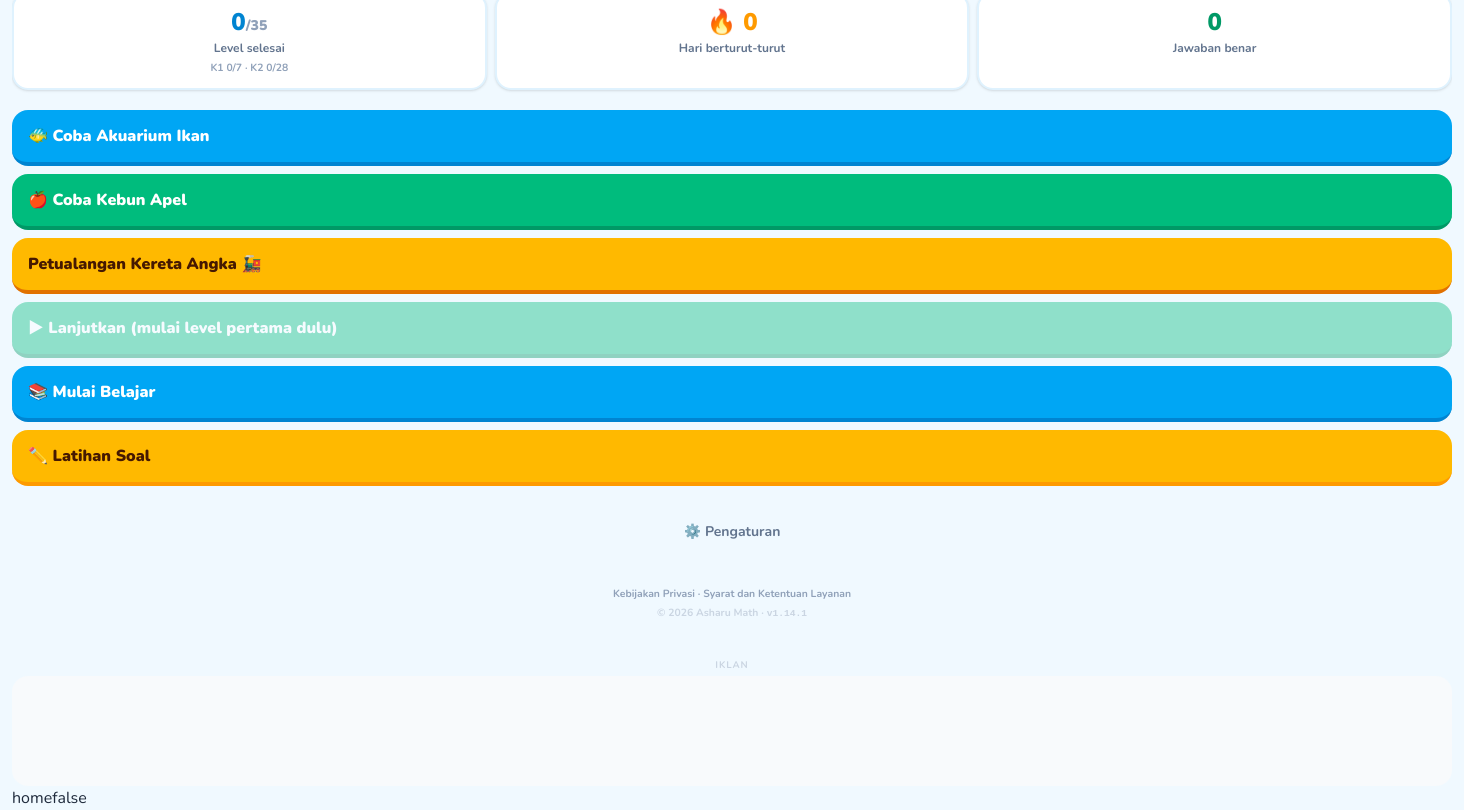
Test: HomeScreen › tombol pengaturan membuka layar settings
(page scrolled)
Click the button "⚙️ Pengaturan" at (732, 532), box x1=668 y1=510 x2=796 y2=554
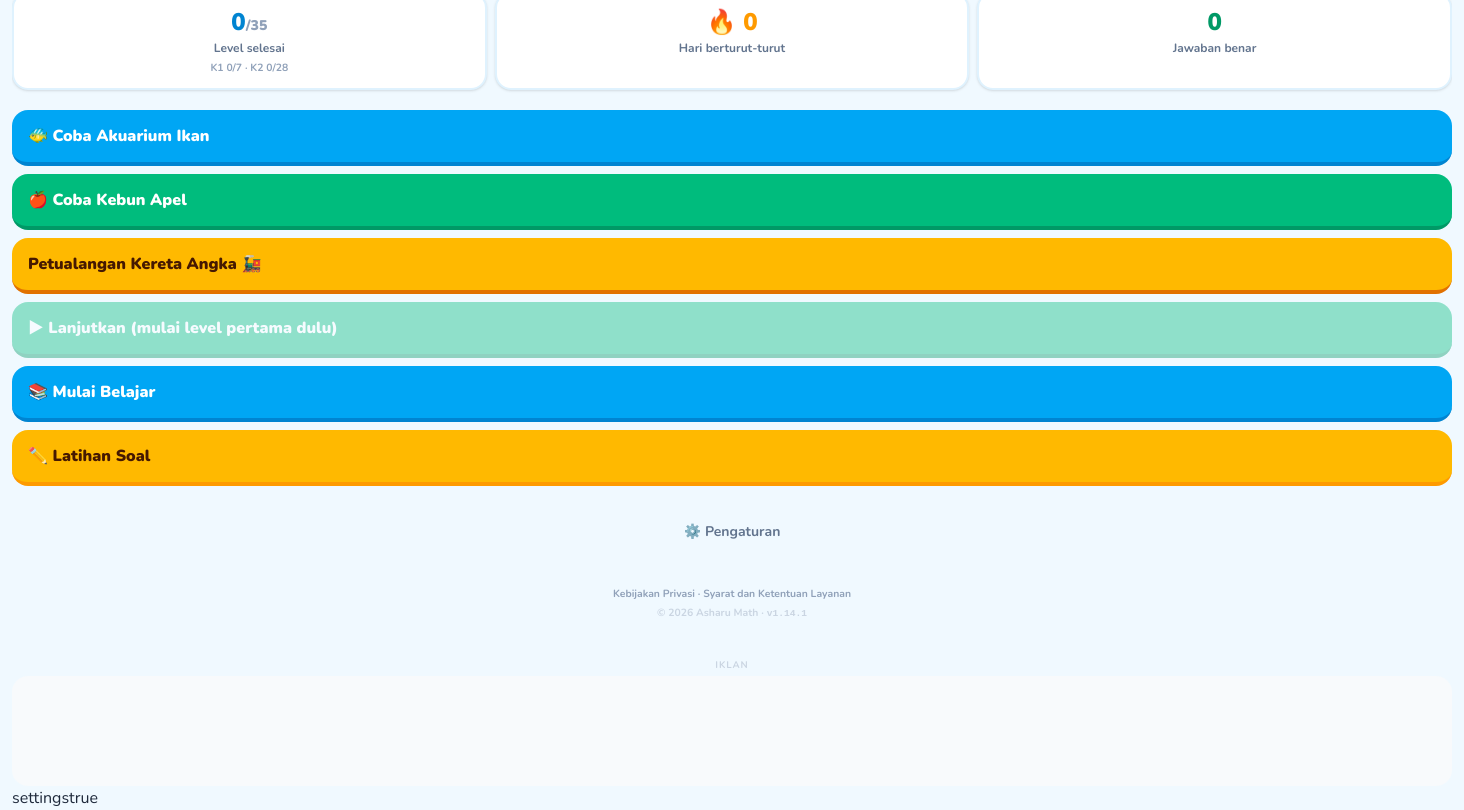
Now the text with test id "probe-screen" reads "settings", box x1=12 y1=787 x2=69 y2=809
